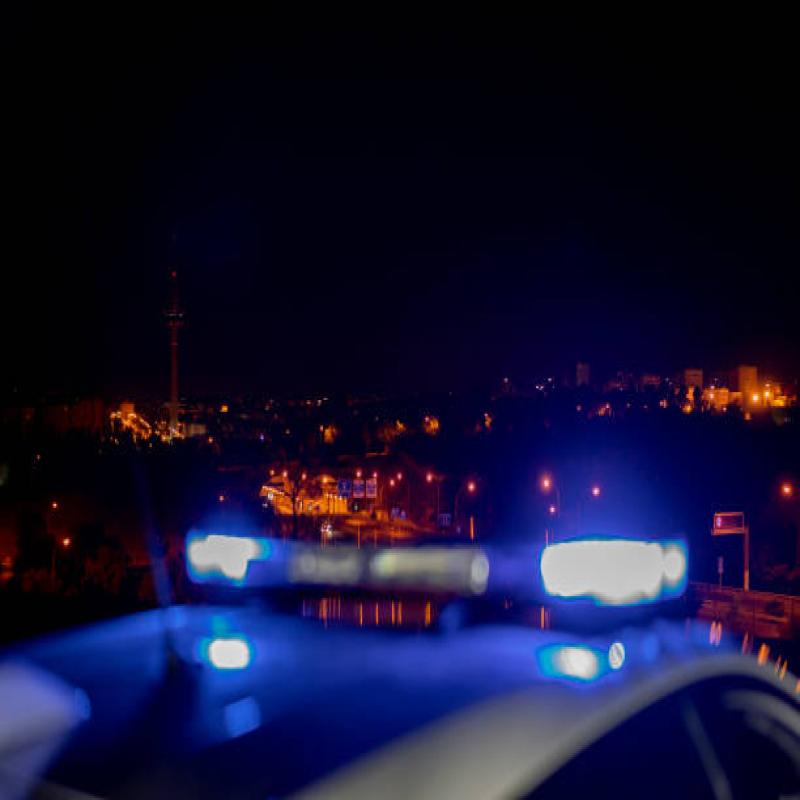AmbulanceSiren: (182, 488, 691, 640)
